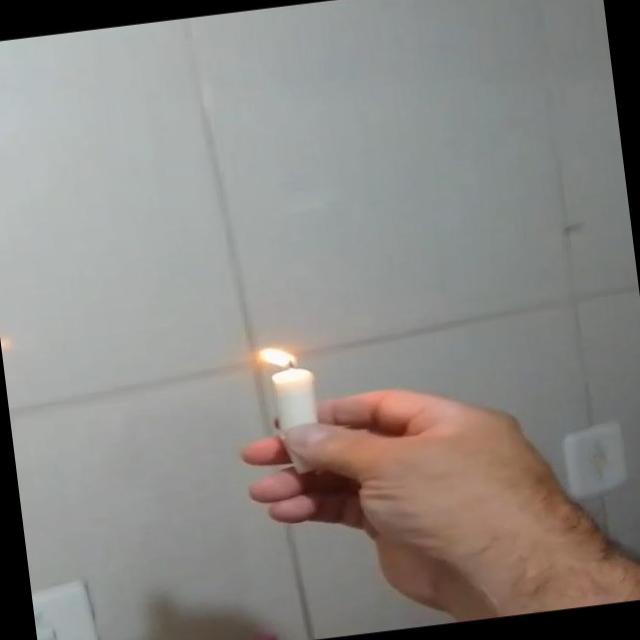Fire: (255, 333, 301, 375)
